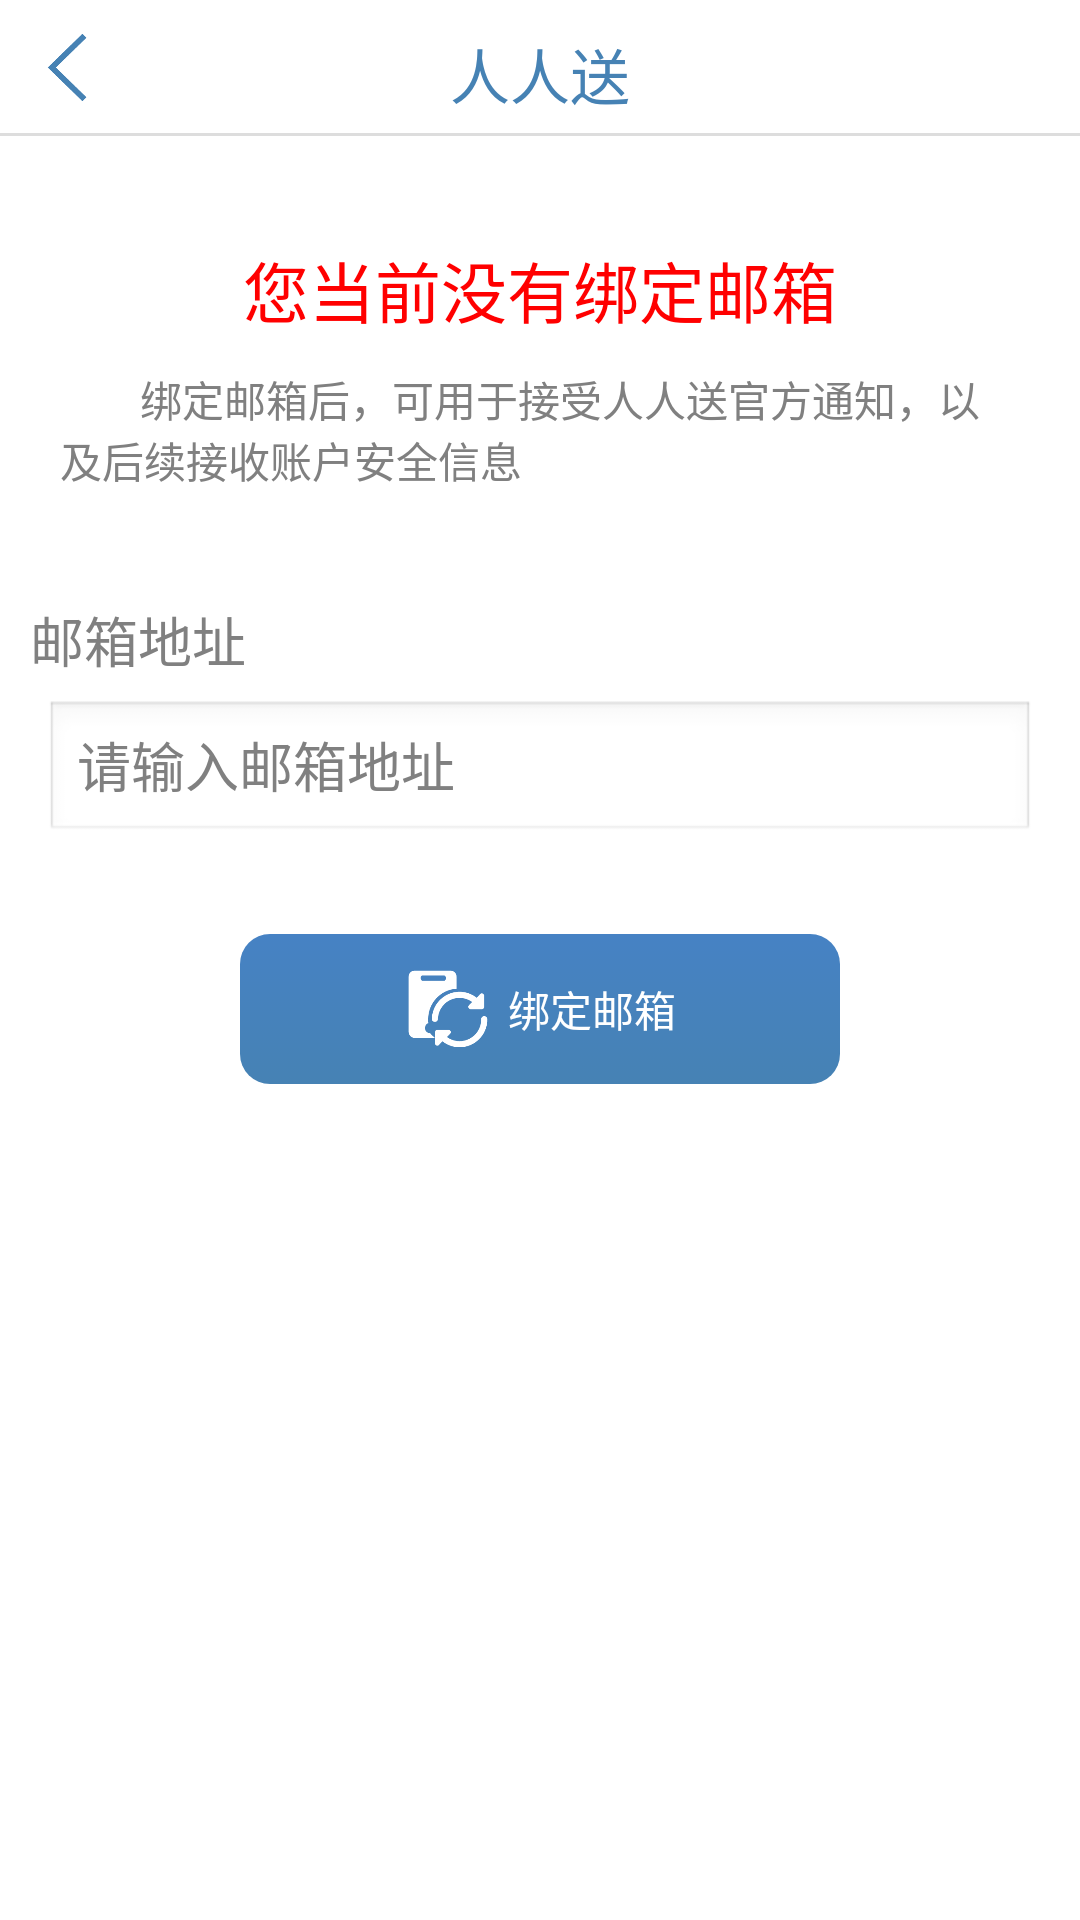

Icons on this 1080x1920 Android screen, each with the point to tap as [x,y]:
back: [67,67]
change phone: [448,1008]
